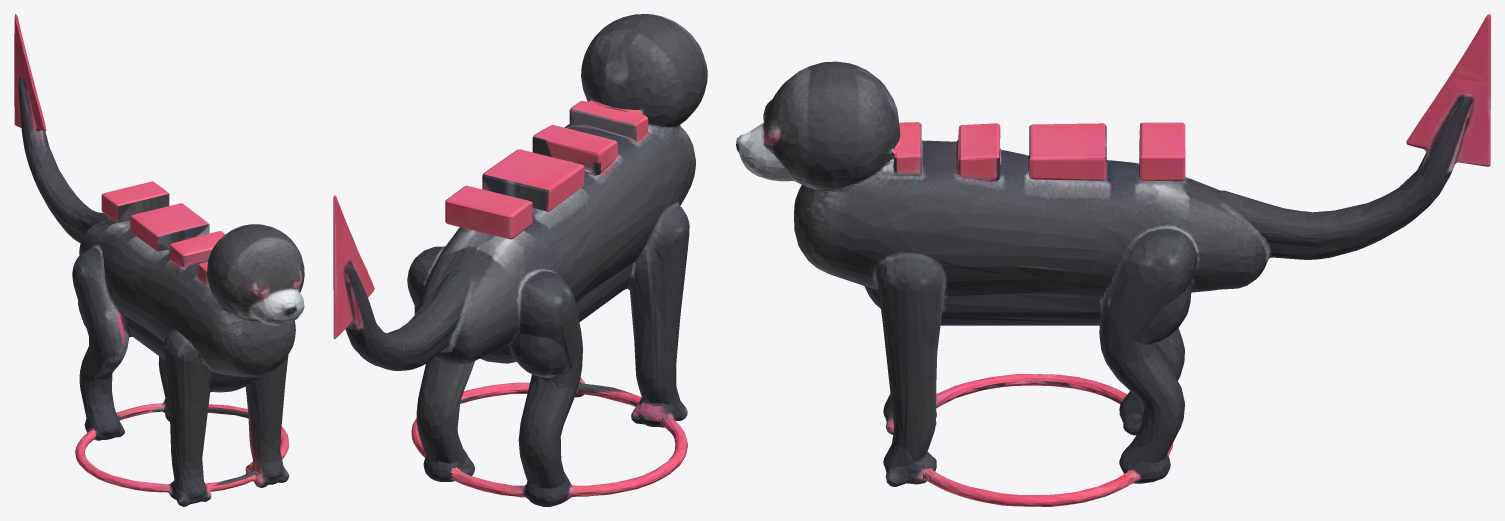
The model's file is creature-036.lod.glb.
3 views of the same model, side by side, from view 1: azimuth 30°, elevation 25°; view 2: azimuth 150°, elevation 25°; view 3: azimuth 270°, elevation 25° (orthographic). The views are drawn at different scales.
Visible parts, largest first — view 1: tmp1okjggi9.ply; view 2: tmp1okjggi9.ply; view 3: tmp1okjggi9.ply.
Boxes of the visible parts, x1,y1,x2,y2 form: tmp1okjggi9.ply: [14, 14, 304, 506]; tmp1okjggi9.ply: [333, 14, 707, 506]; tmp1okjggi9.ply: [736, 14, 1490, 506].
Bounding box in the file's own units: 0.7934 × 1.28 × 1.99.
1 material, 1 textured.
